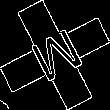M_SE: (23, 22, 87, 88)
